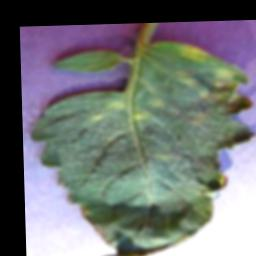Leaf_Mold: (167, 64, 252, 129), (179, 40, 213, 64)
